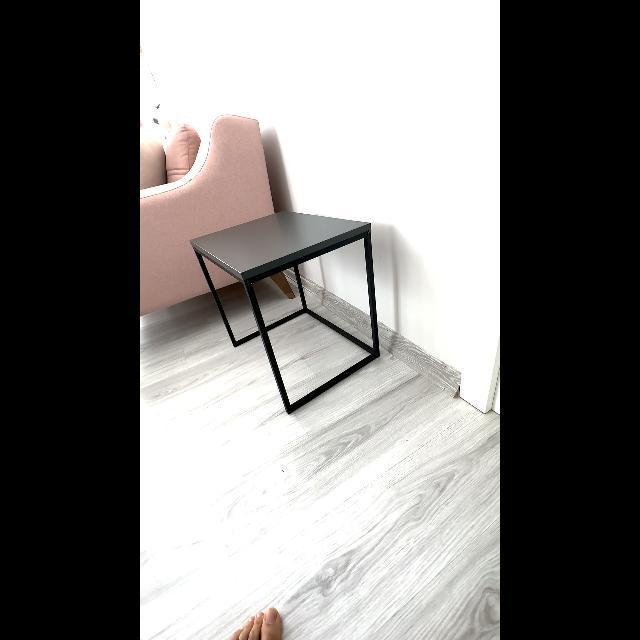coffee table: (188, 202, 388, 412)
